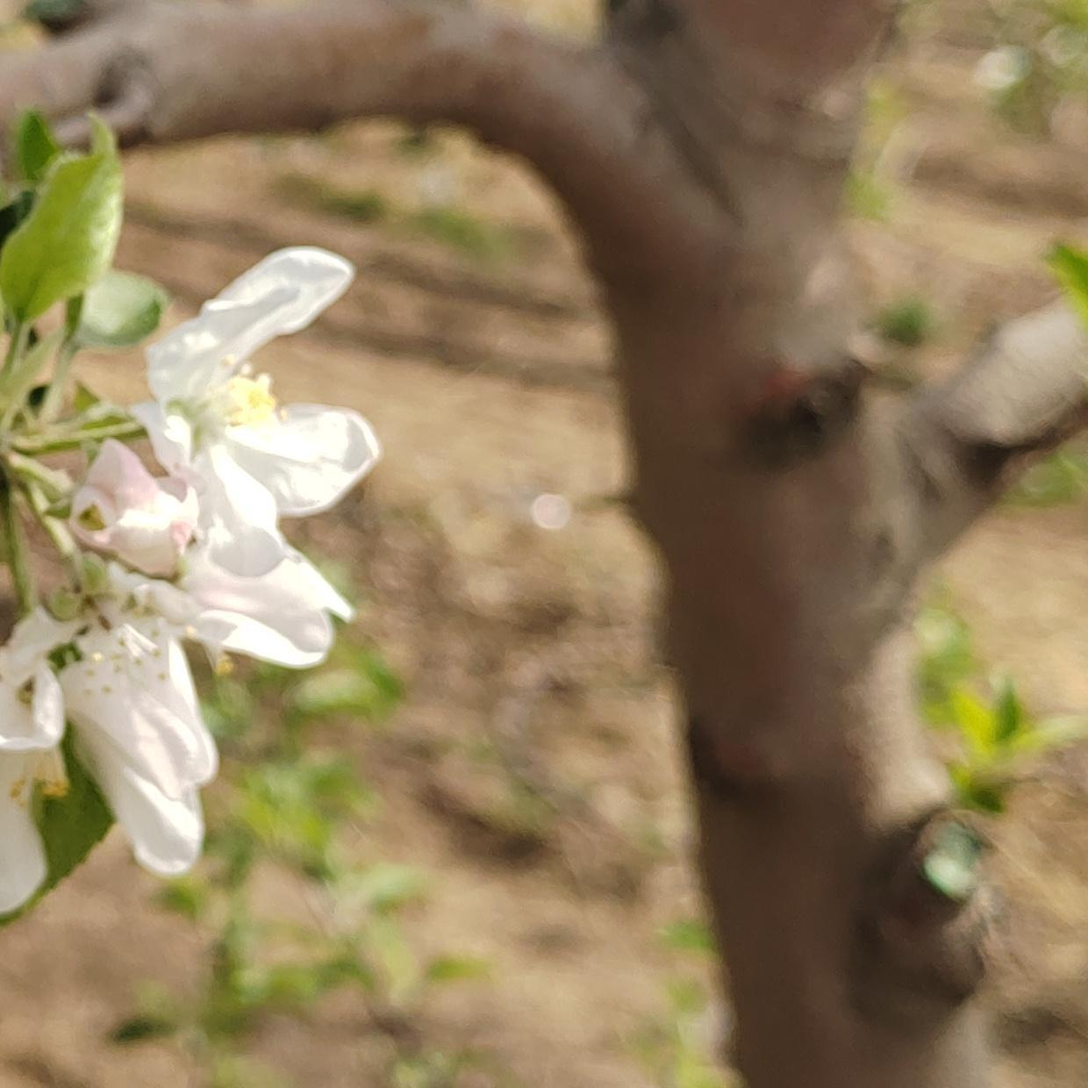apple_flower: (0, 246, 379, 916)
